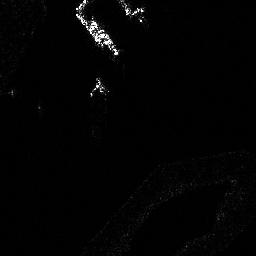ship: (86, 20, 119, 56)
